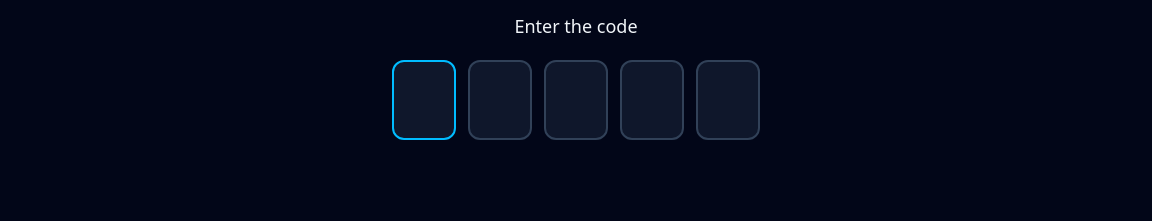
Test: DownloadPage › shows a generic message for unknown codes
The width and height of the screenshot is (1152, 221).
In the field named "Character 1": (424, 100) [392, 60, 456, 140], type "ZZZZZ"
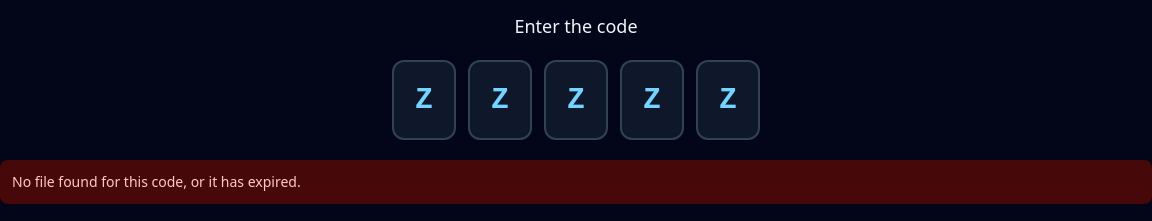
Now the message shows "No file found for this code", box [12, 172, 301, 191]
